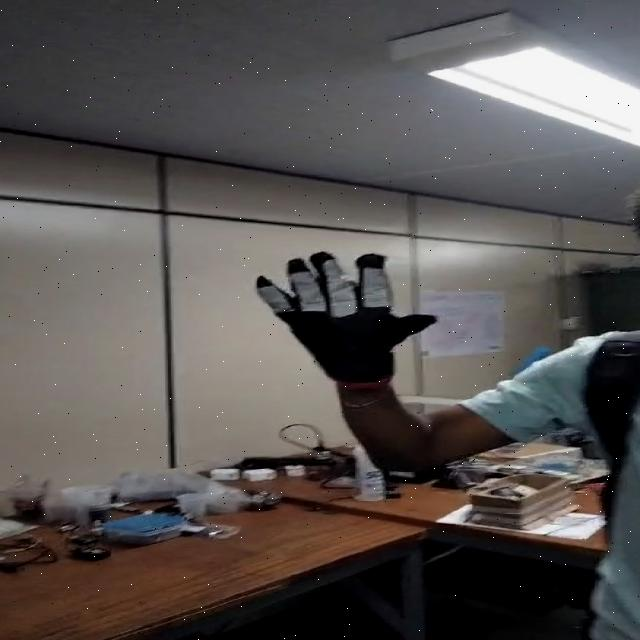Gloves: (256, 250, 446, 383)
